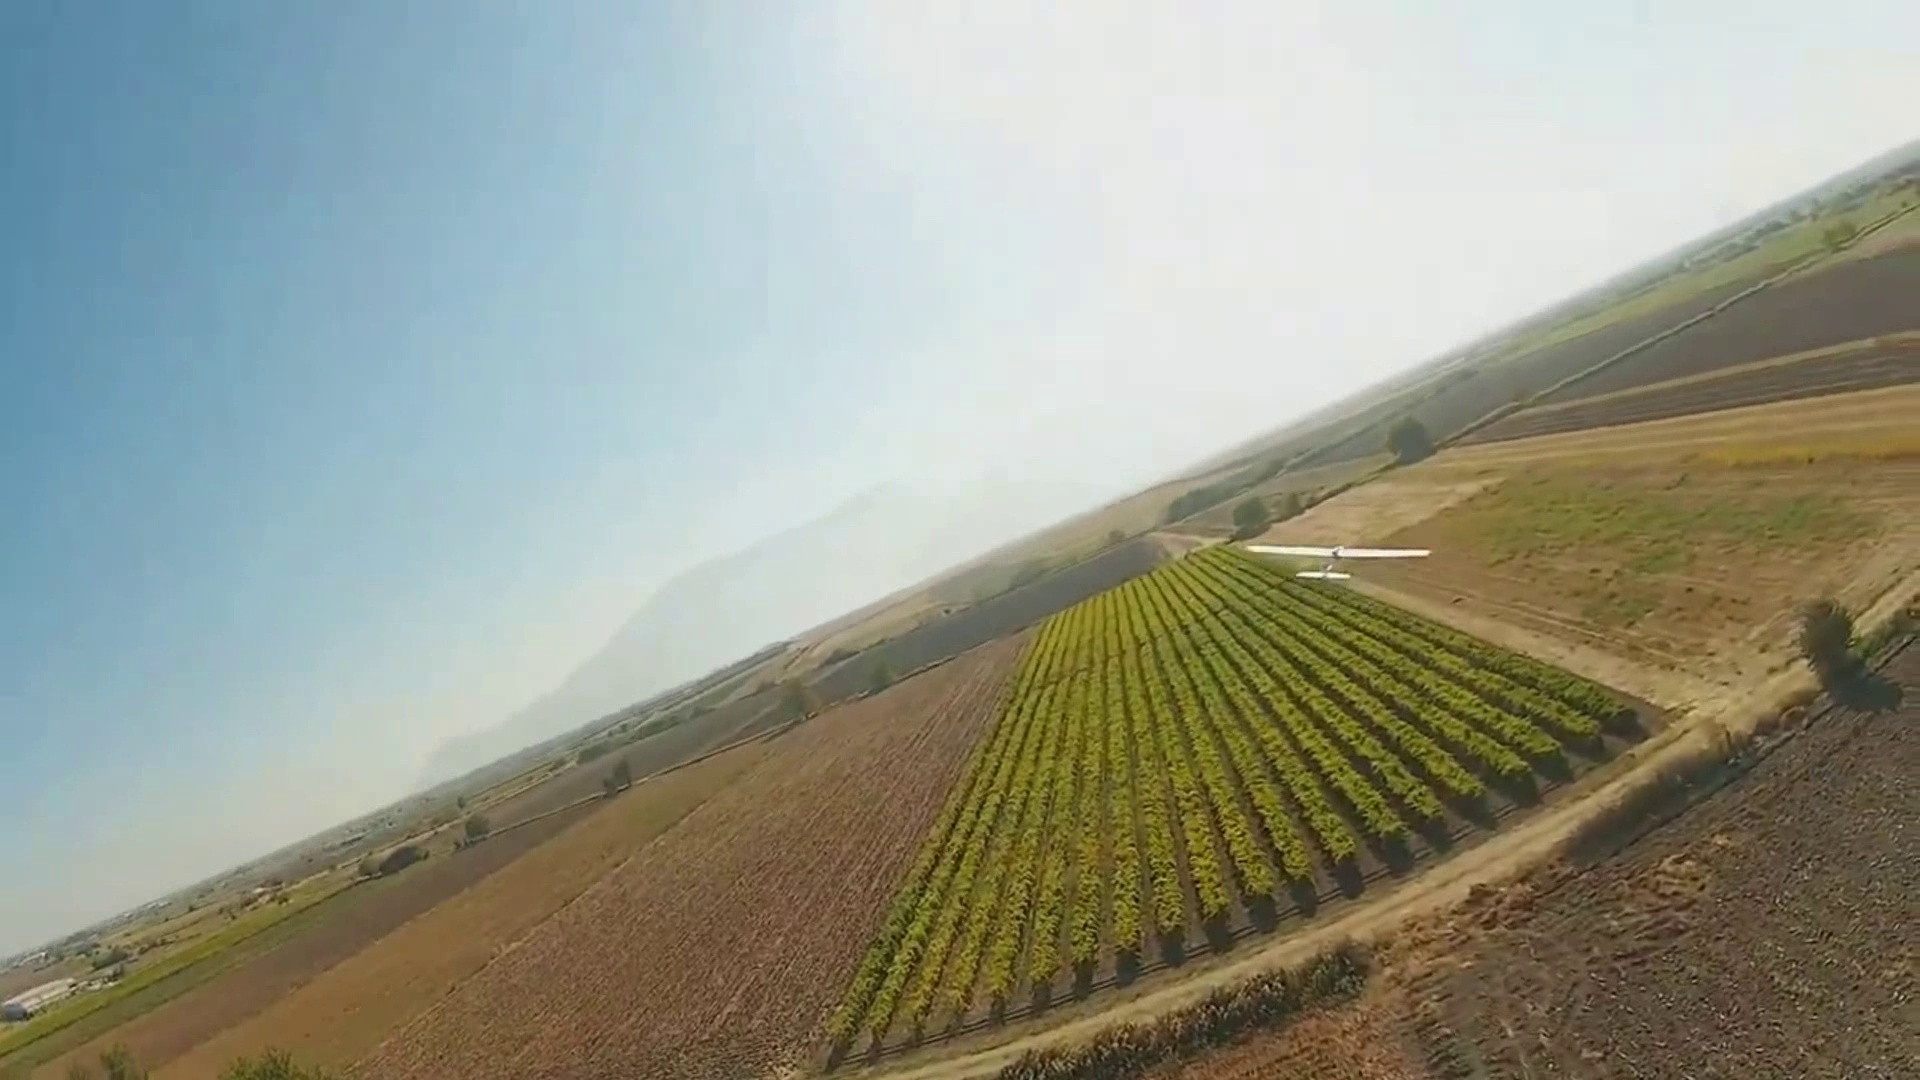airplane: (9, 141, 1917, 1036)
